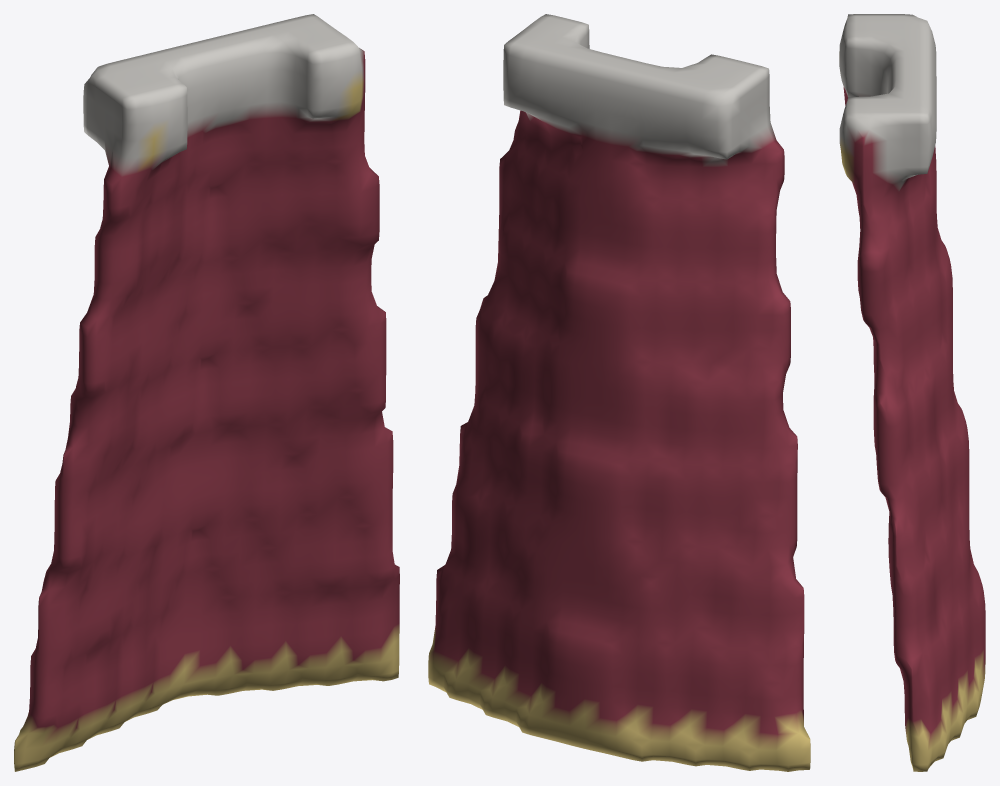
Rendered from plate_epic_cloak_lod1.glb.
3 views of the same model, side by side, from view 1: azimuth 30°, elevation 25°; view 2: azimuth 150°, elevation 25°; view 3: azimuth 270°, elevation 25° (orthographic). The views are drawn at different scales.
Parts seen in each view (by area): view 1: plate_epic_cloak_lod1; view 2: plate_epic_cloak_lod1; view 3: plate_epic_cloak_lod1.
Part boxes in pixels (bbox=[...]): plate_epic_cloak_lod1: bbox=[14, 14, 399, 771]; plate_epic_cloak_lod1: bbox=[428, 14, 810, 771]; plate_epic_cloak_lod1: bbox=[839, 14, 985, 771].
Size of the model in its own units: 0.5987 by 1.01 by 0.2148.
